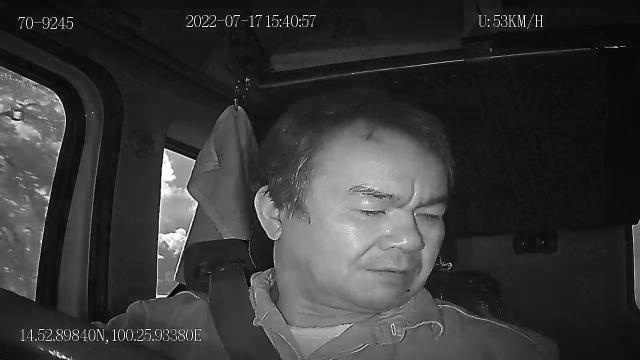SafeDriving: (344, 195, 394, 224), (407, 200, 451, 227)
Seatbelt: (206, 262, 284, 360)
